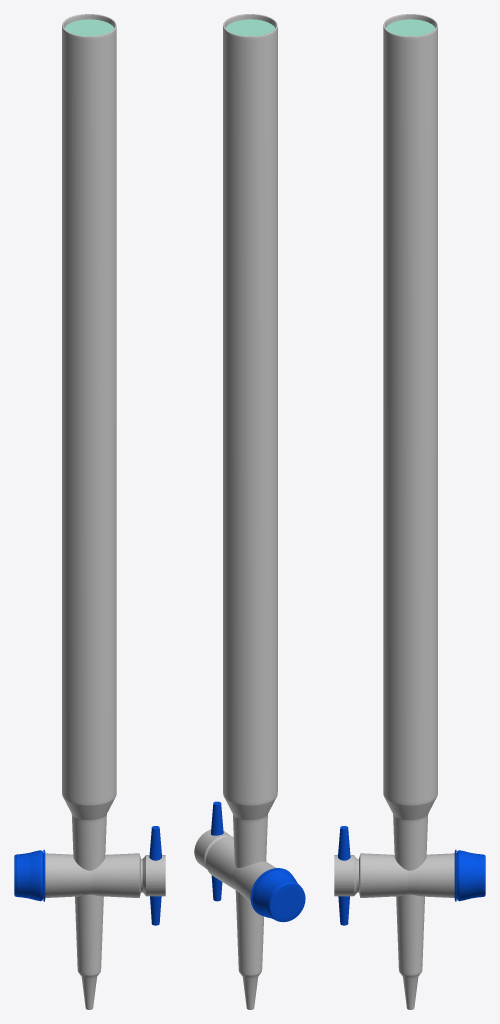
Rendered from burette.fbx.
The picture shows the model from 3 angles, left to right: view 1: azimuth 90°, elevation 25°; view 2: azimuth 210°, elevation 25°; view 3: azimuth 270°, elevation 25°; orthographic projection.
Parts seen in each view (by area): view 1: Cylinder, Cylinder.001, Cylinder.002, Cylinder.003, Cylinder.004; view 2: Cylinder, Cylinder.001, Cylinder.002, Cylinder.004, Cylinder.003; view 3: Cylinder, Cylinder.001, Cylinder.002, Cylinder.003, Cylinder.004.
Part boxes in pixels (box(x1,y1,x2,y2)): Cylinder: box(62, 14, 116, 1009); Cylinder.001: box(45, 853, 165, 897); Cylinder.002: box(14, 849, 45, 901); Cylinder.003: box(149, 826, 161, 925); Cylinder.004: box(64, 19, 114, 36); Cylinder: box(223, 14, 277, 1009); Cylinder.001: box(194, 829, 275, 902); Cylinder.002: box(250, 868, 305, 922); Cylinder.004: box(225, 19, 275, 36); Cylinder.003: box(211, 801, 223, 901); Cylinder: box(383, 14, 437, 1009); Cylinder.001: box(334, 853, 454, 897); Cylinder.002: box(454, 849, 485, 901); Cylinder.003: box(338, 826, 350, 925); Cylinder.004: box(385, 19, 435, 36).
Bounding box in the file's own units: 22.33 × 442 × 61.71.
